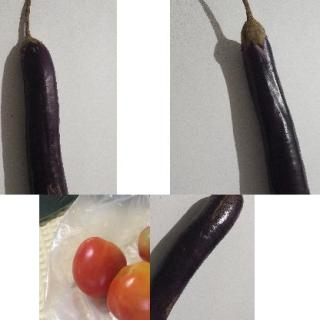Tomat: (66, 220, 151, 320)
